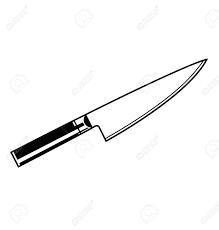Knife: (9, 57, 208, 167)
